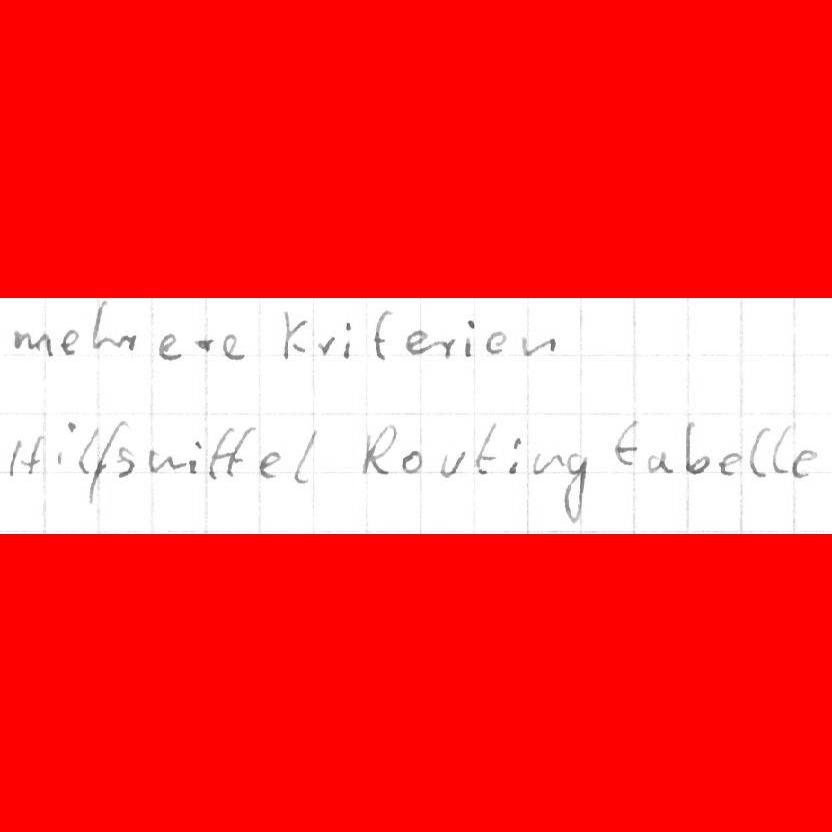Char: (88, 425, 119, 502), (358, 422, 396, 477), (560, 449, 587, 524), (291, 427, 320, 485), (278, 309, 309, 361), (225, 425, 256, 477), (680, 420, 711, 471), (90, 299, 119, 349), (611, 418, 640, 467), (369, 306, 394, 362), (474, 421, 499, 476), (747, 425, 770, 478), (54, 419, 77, 467), (147, 447, 187, 474), (77, 425, 98, 474), (15, 328, 53, 355), (23, 434, 47, 475), (771, 424, 790, 475), (206, 429, 225, 480), (438, 446, 468, 478), (156, 331, 184, 361), (519, 335, 559, 356), (790, 446, 817, 477), (531, 449, 564, 474), (405, 327, 431, 358), (221, 331, 247, 361), (646, 447, 673, 475), (257, 449, 281, 480), (483, 329, 509, 356), (116, 445, 135, 479), (718, 448, 741, 476), (59, 327, 81, 356), (506, 437, 523, 474), (400, 448, 423, 473), (463, 320, 477, 358), (6, 438, 20, 476), (341, 320, 354, 359), (316, 333, 337, 357), (430, 339, 455, 359), (189, 438, 202, 475), (192, 335, 215, 355), (118, 333, 138, 352)
